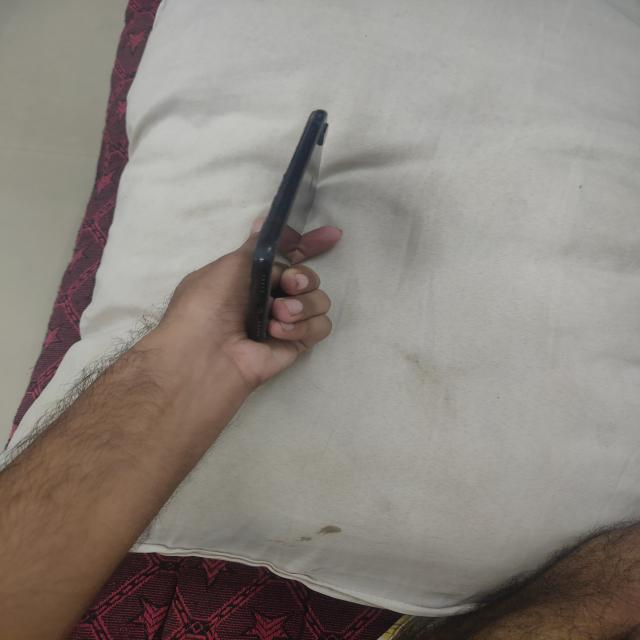Phone: (240, 106, 331, 344)
